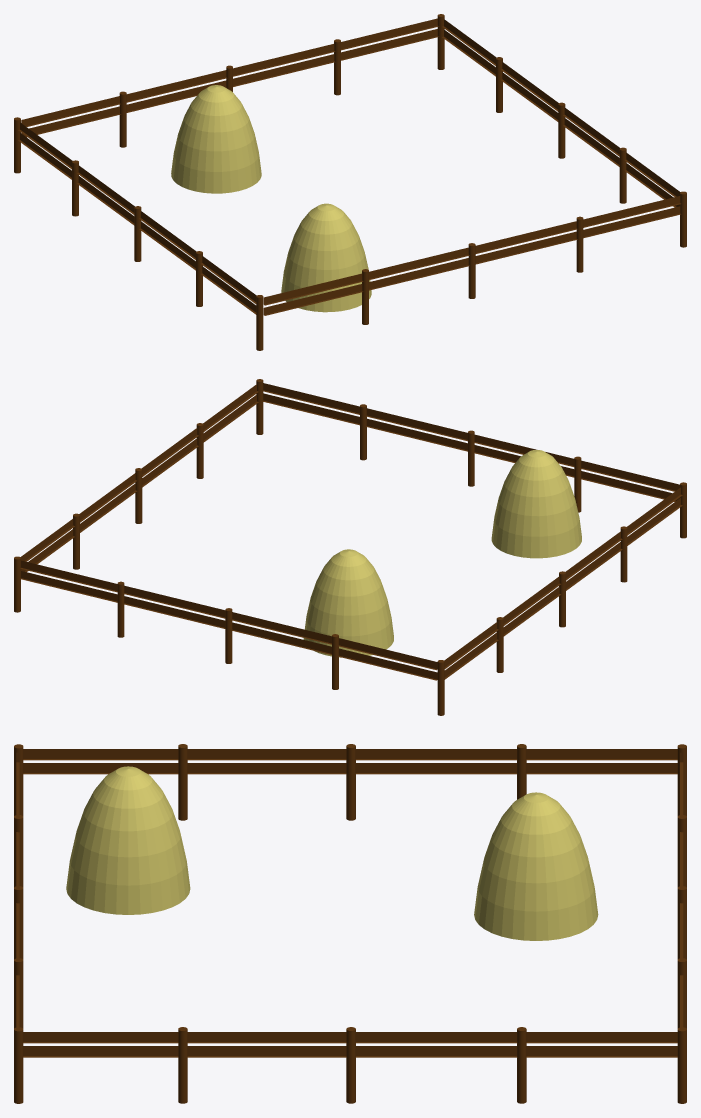
The model's file is Field.fbx.
The picture shows the model from 3 angles, top to bottom: view 1: azimuth 30°, elevation 25°; view 2: azimuth 150°, elevation 25°; view 3: azimuth 270°, elevation 25°; orthographic projection. The views are drawn at different scales.
Visible parts, largest first — view 1: Fence, Hay; view 2: Fence, Hay; view 3: Fence, Hay.
Boxes of the visible parts, x1,y1,x2,y2 form: Fence: [14, 14, 686, 350]; Hay: [171, 85, 371, 312]; Fence: [14, 379, 686, 715]; Hay: [303, 450, 581, 657]; Fence: [14, 744, 686, 1103]; Hay: [66, 766, 598, 940].
Bounding box in the file's own units: 413 × 81.46 × 409.
